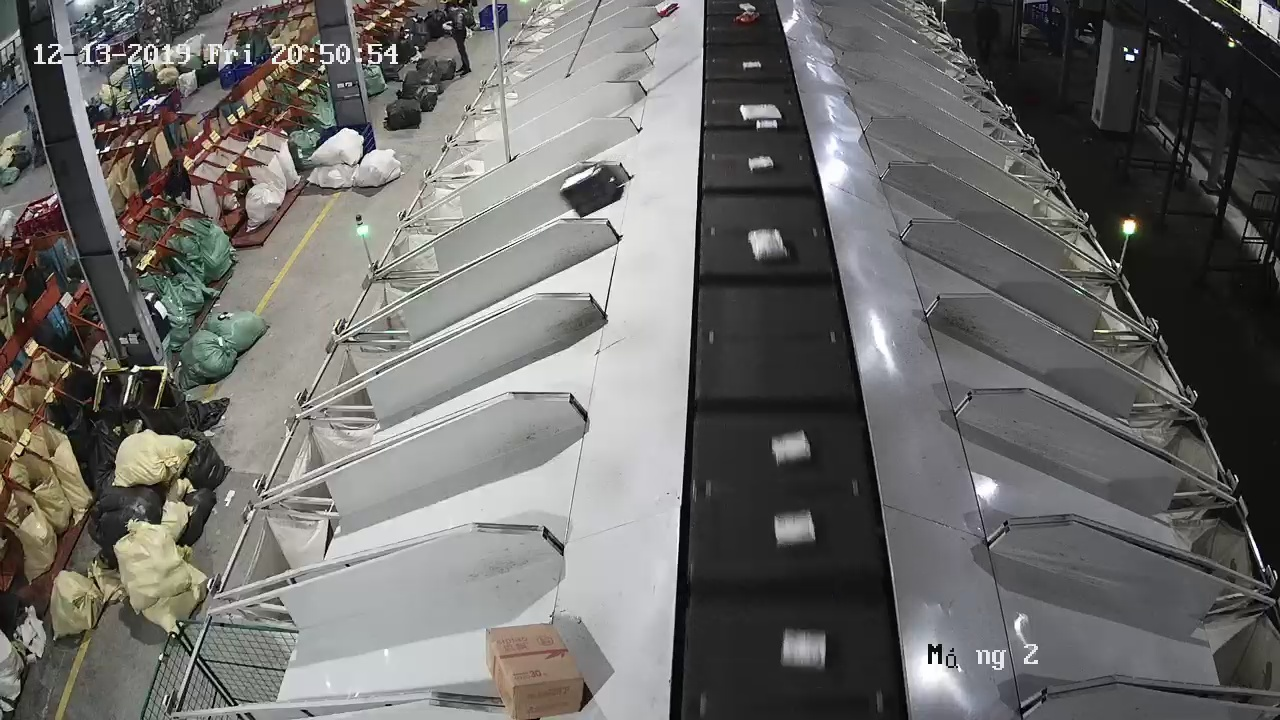parcel: (559, 162, 618, 216)
